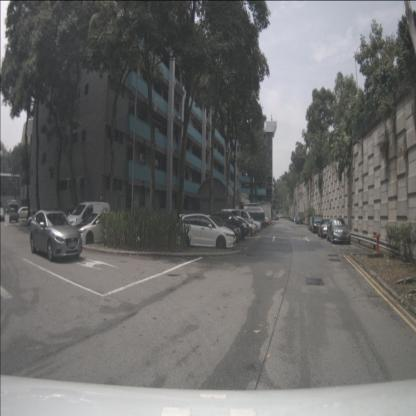vehicle-car: (30, 210, 83, 262), (181, 214, 236, 251), (73, 212, 121, 247), (66, 202, 111, 238), (196, 213, 242, 243), (210, 211, 249, 240), (220, 209, 254, 233), (221, 215, 256, 237), (326, 217, 351, 243), (229, 215, 261, 234), (244, 205, 270, 228), (242, 211, 265, 229), (318, 219, 334, 239), (17, 206, 32, 220), (312, 214, 323, 233), (10, 202, 18, 223), (308, 216, 318, 231), (0, 207, 5, 222), (295, 216, 302, 225), (293, 216, 298, 223), (275, 214, 279, 221)
